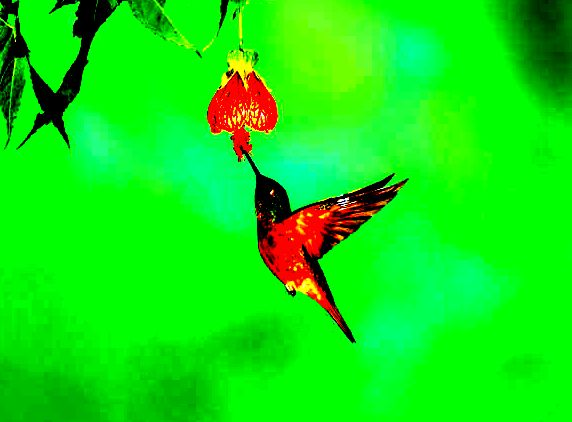Bird: (241, 144, 411, 346)
